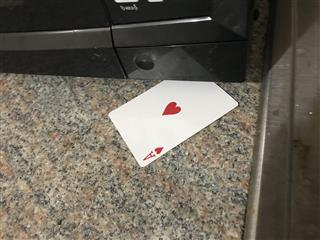AceOfHearts: (107, 79, 238, 167)
